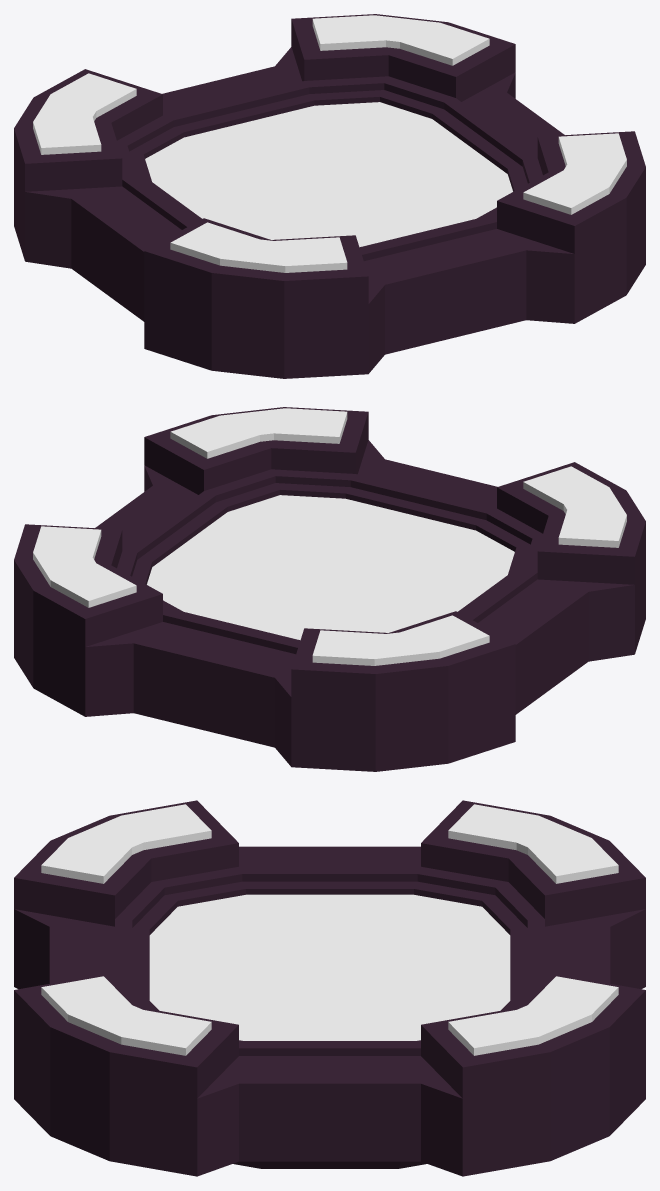
The model's file is bigPlataform.fbx.
3 views of the same model, one above another, from view 1: azimuth 30°, elevation 25°; view 2: azimuth 150°, elevation 25°; view 3: azimuth 270°, elevation 25° (orthographic). The views are drawn at different scales.
Parts seen in each view (by area): view 1: plataformaGrande; view 2: plataformaGrande; view 3: plataformaGrande.
Boxes of the visible parts, x1,y1,x2,y2 form: plataformaGrande: [14, 14, 645, 378]; plataformaGrande: [14, 407, 645, 771]; plataformaGrande: [14, 800, 645, 1176].
Size of the model in its own units: 1471 by 464 by 1471.
1 material, 1 textured.
